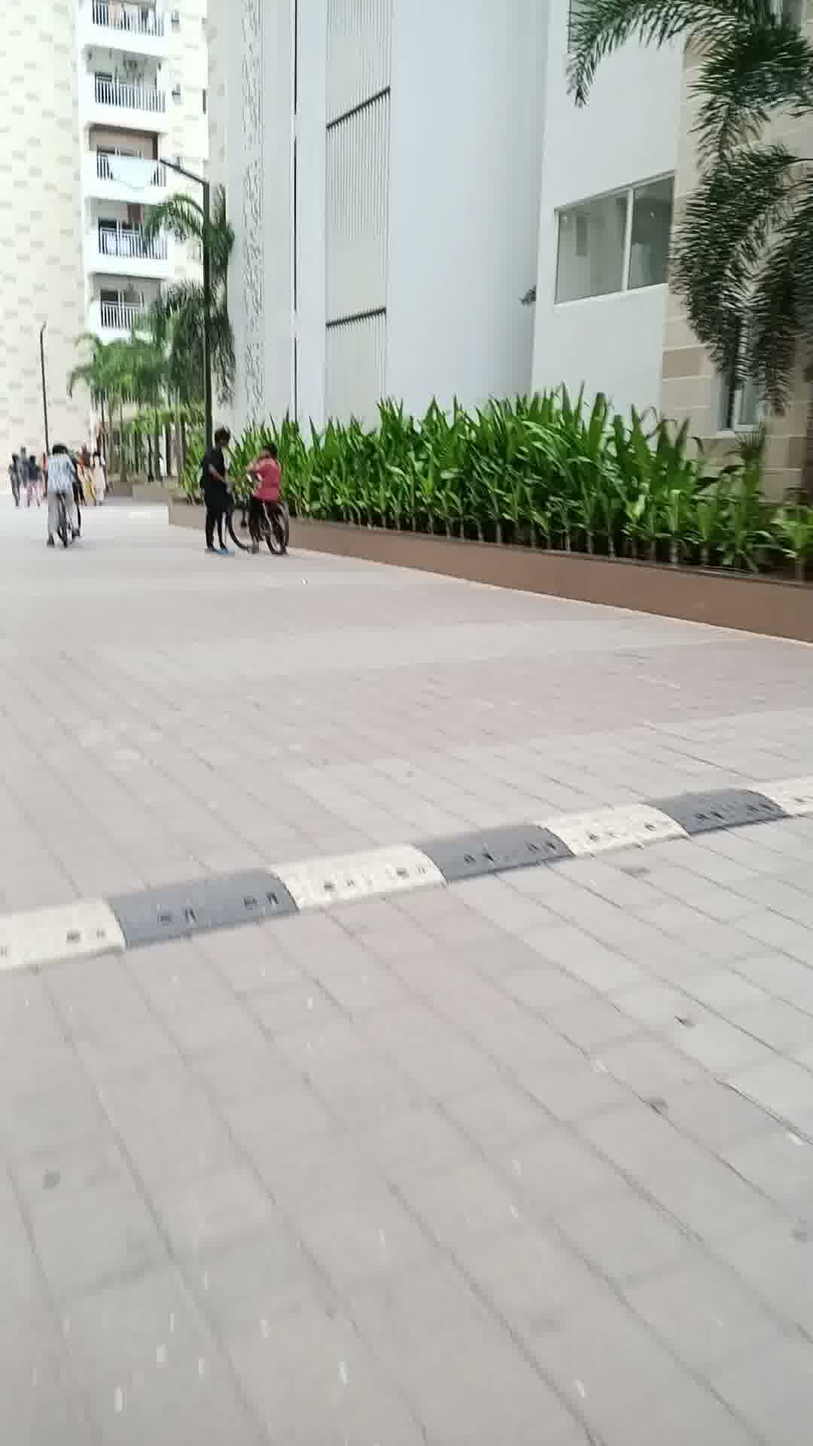bicycle: (230, 495, 304, 549)
person: (185, 416, 245, 558), (37, 441, 83, 555), (245, 438, 299, 495)
tree: (134, 182, 248, 444), (57, 310, 156, 438)
